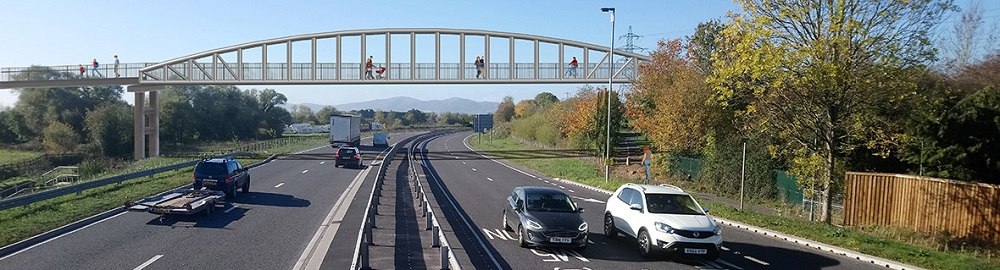bridge: (1, 27, 656, 83)
